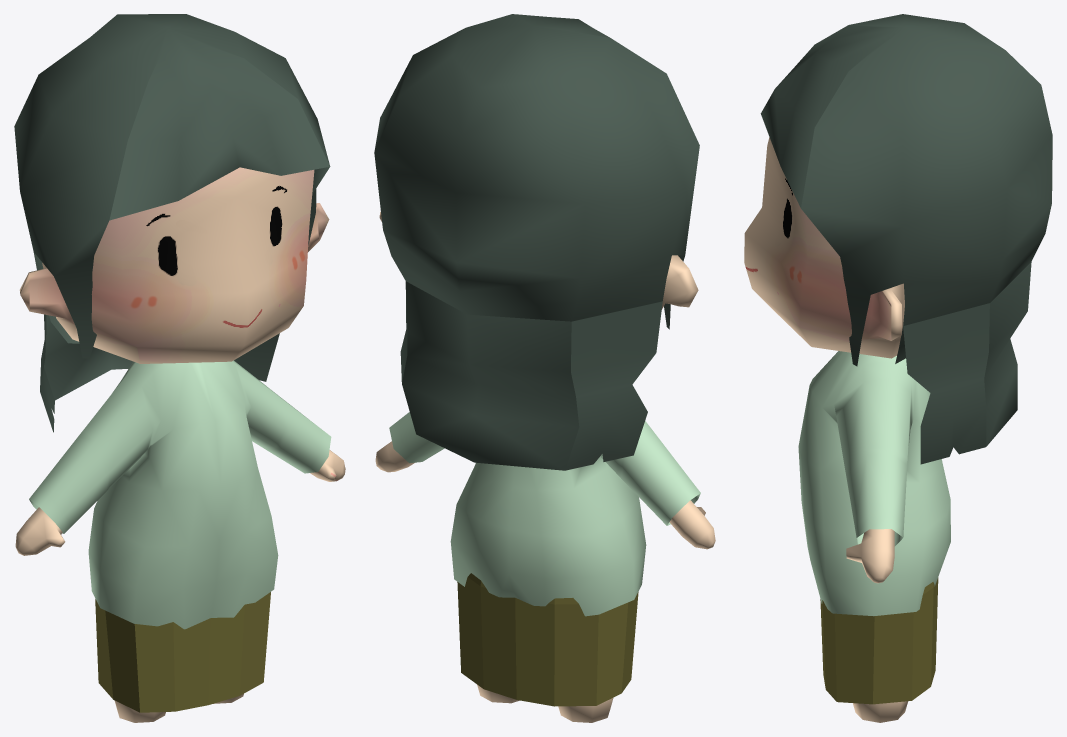
Rendered from bawang_putih.glb.
3 views of the same model, side by side, from view 1: azimuth 30°, elevation 25°; view 2: azimuth 150°, elevation 25°; view 3: azimuth 270°, elevation 25° (orthographic). The views are drawn at different scales.
Visible parts, largest first — view 1: Chibi_base.012, Chibi_base.010, Chibi_base.011, Chibi_base.009; view 2: Chibi_base.012, Chibi_base.010, Chibi_base.009, Chibi_base.011; view 3: Chibi_base.012, Chibi_base.010, Chibi_base.011, Chibi_base.009.
Boxes of the visible parts, left/top/right/bottom form: Chibi_base.012: left=14, top=14, right=330, bottom=432; Chibi_base.010: left=29, top=360, right=331, bottom=629; Chibi_base.011: left=15, top=167, right=345, bottom=722; Chibi_base.009: left=95, top=592, right=270, bottom=712; Chibi_base.012: left=374, top=14, right=699, bottom=470; Chibi_base.010: left=389, top=412, right=700, bottom=616; Chibi_base.009: left=457, top=573, right=638, bottom=706; Chibi_base.011: left=375, top=211, right=715, bottom=722; Chibi_base.012: left=760, top=14, right=1052, bottom=464; Chibi_base.010: left=798, top=351, right=950, bottom=616; Chibi_base.011: left=744, top=137, right=907, bottom=722; Chibi_base.009: left=820, top=577, right=938, bottom=704.
Size of the model in its own units: 1.68 by 3.3 by 1.37.
4 materials, 1 textured.
